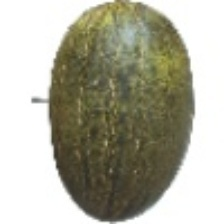honeydew: (26, 39, 163, 205)
